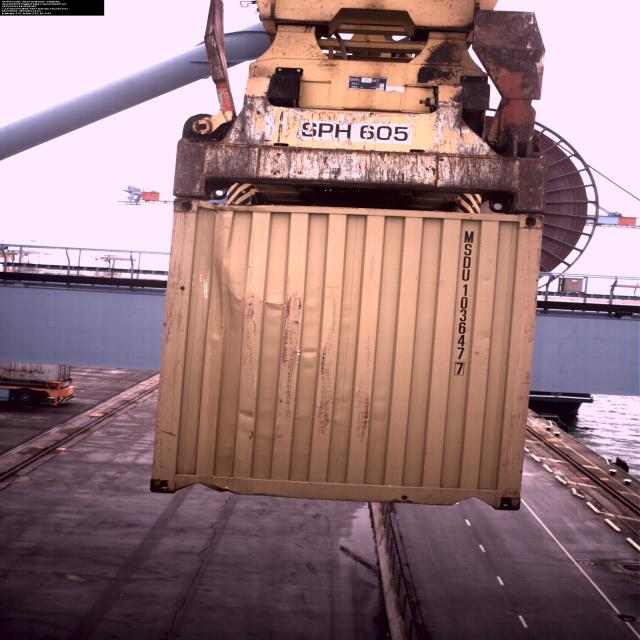dent: (209, 212, 247, 346), (266, 301, 286, 314), (373, 397, 392, 409), (237, 427, 254, 440), (304, 301, 323, 312), (238, 411, 255, 422), (300, 349, 318, 358), (372, 418, 388, 426), (339, 400, 354, 406), (302, 367, 316, 372)
